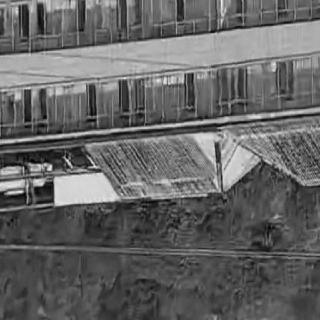other: (94, 117, 296, 217)
